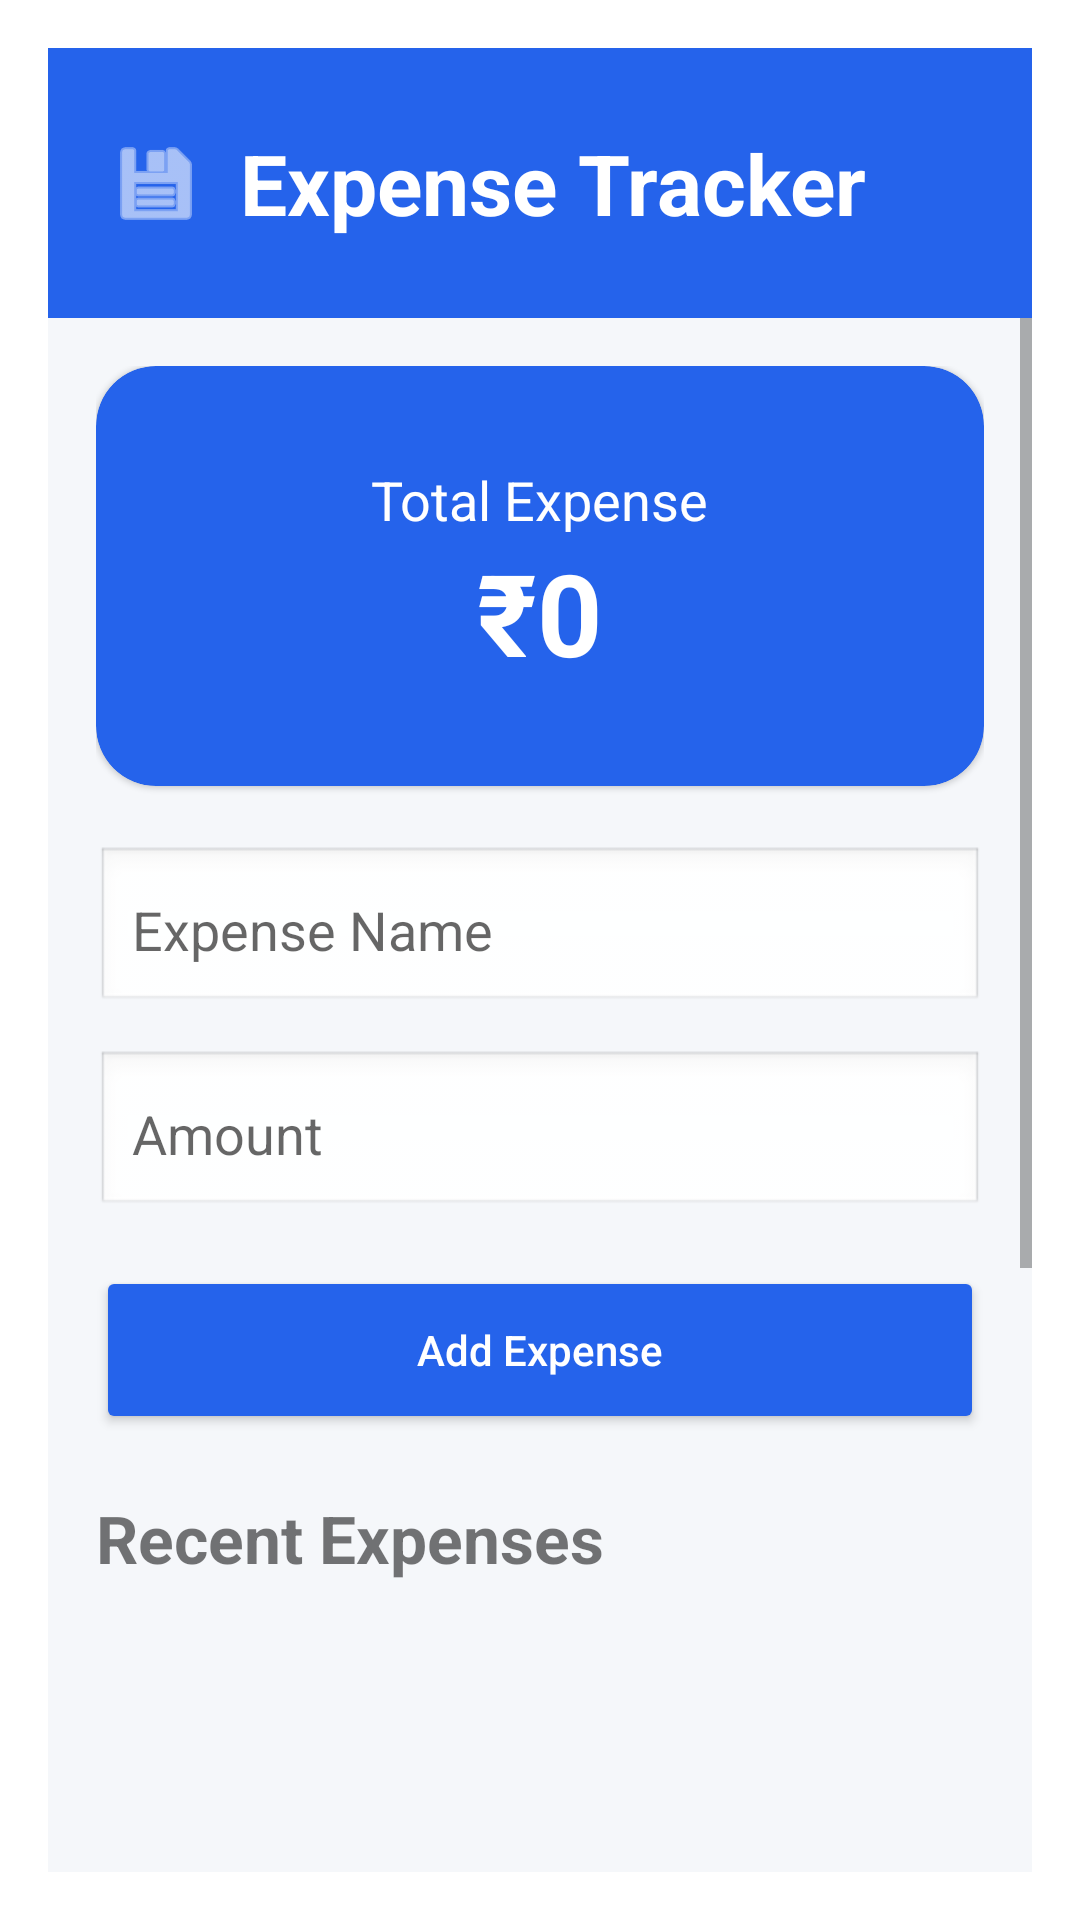

Icons on this 1080x1920 Android screen, each with the point to tap as point (x, y):
save: point (156, 183)
